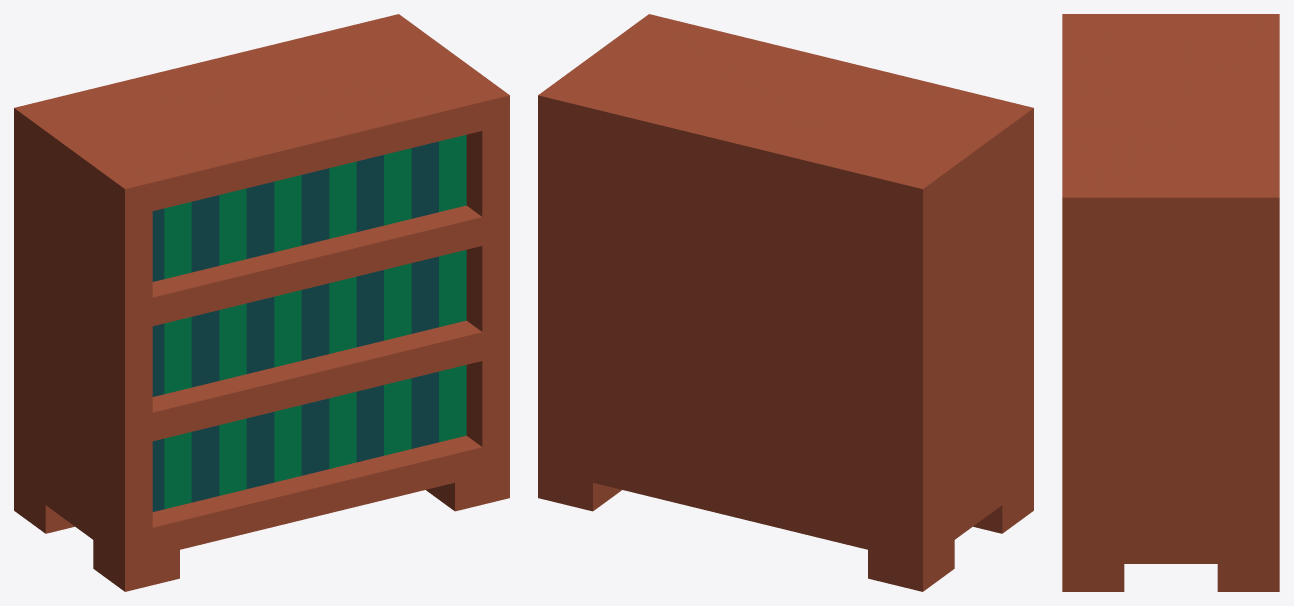
File: large_bookcase_a_green.obj
3 renders of one model, left to right at view 1: azimuth 30°, elevation 25°; view 2: azimuth 150°, elevation 25°; view 3: azimuth 270°, elevation 25°, orthographic. The views are drawn at different scales.
Bounding box in the file's own units: 1.4 × 1.4 × 0.7.
1 material, 1 textured.
